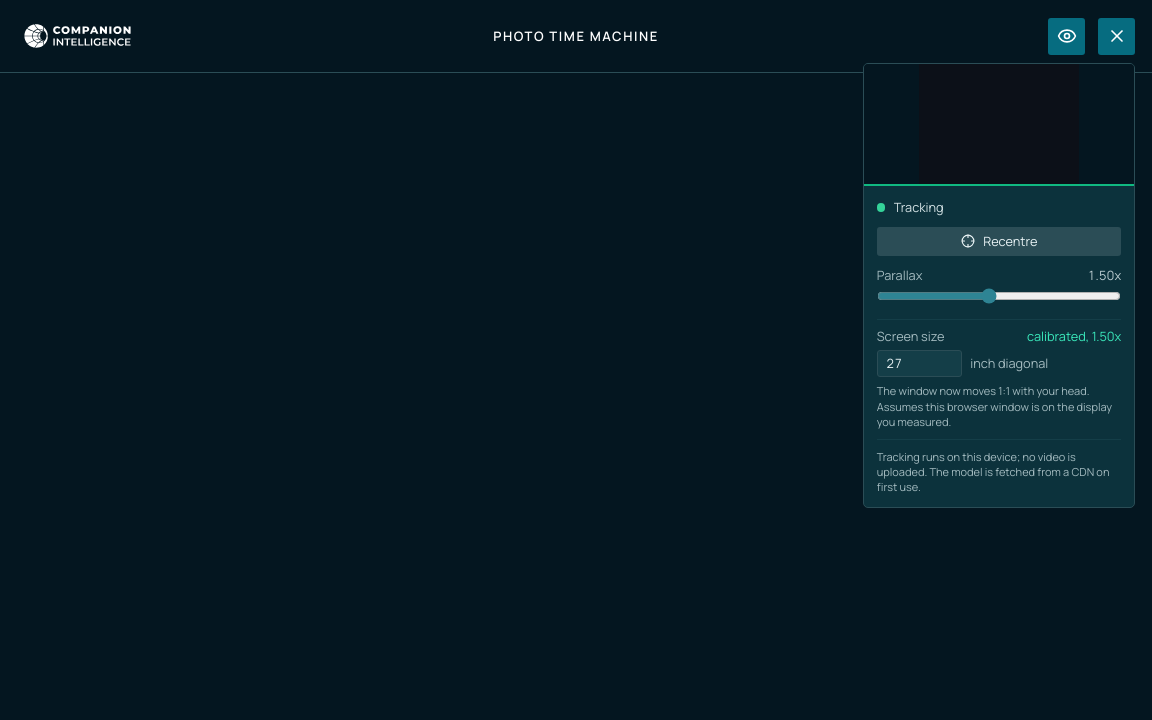
Test: display calibration › clears back to relative when the field is emptied
Clear the number field named "display diagonal in inches" at [919, 363], box [877,350,962,377]
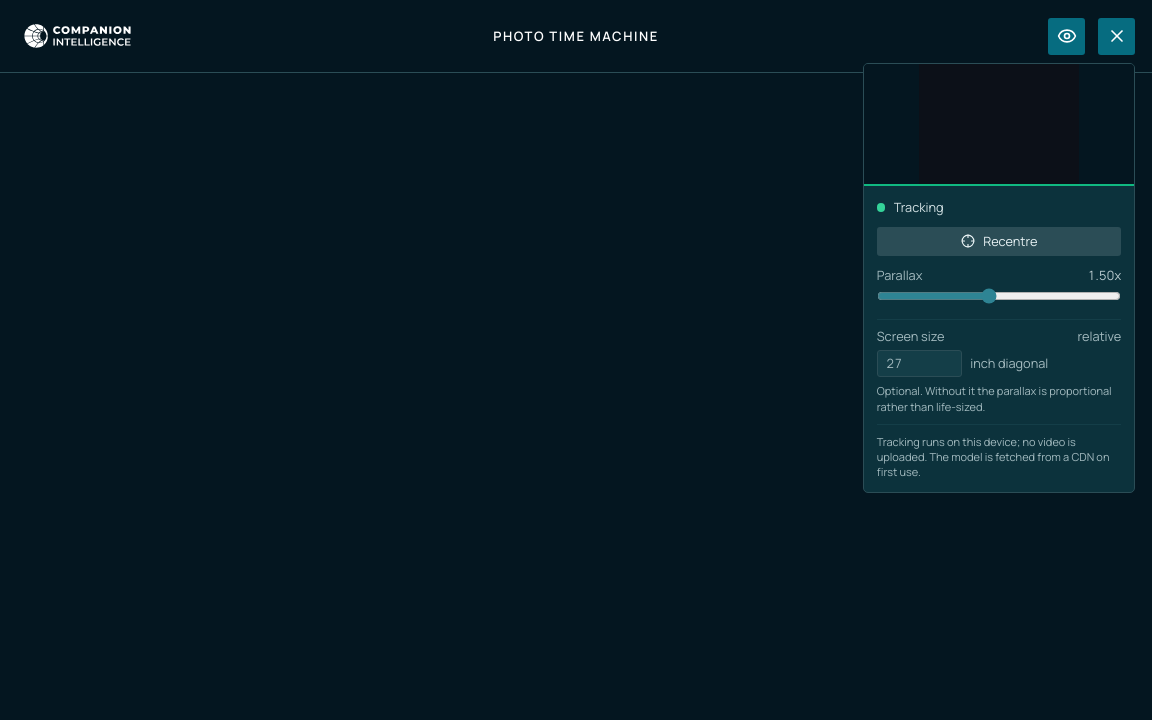
Expected: the text "relative" is shown, [1078,328,1121,345]
